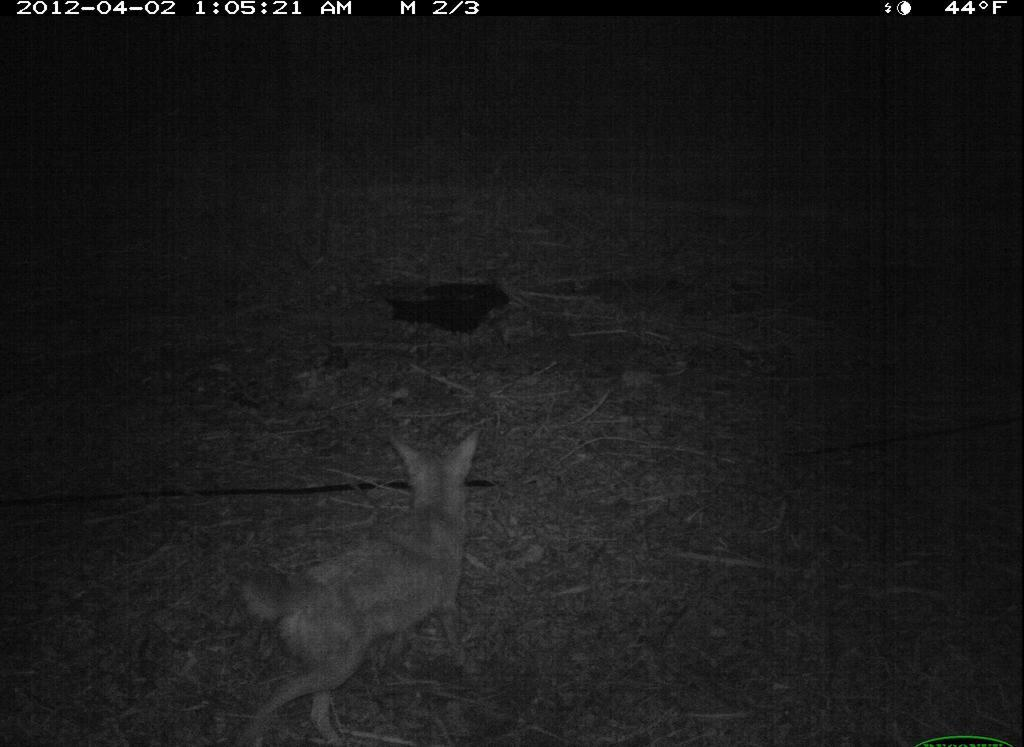coyote: (225, 428, 491, 742)
